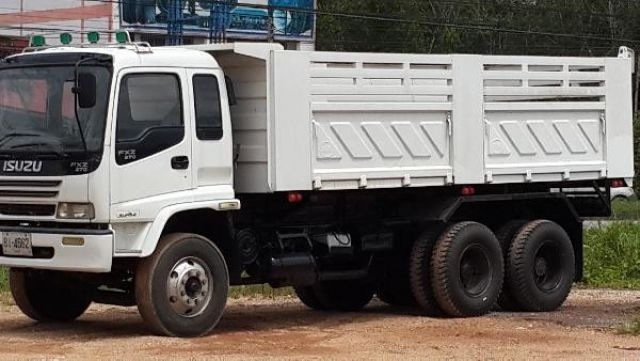truck: (5, 35, 633, 337)
